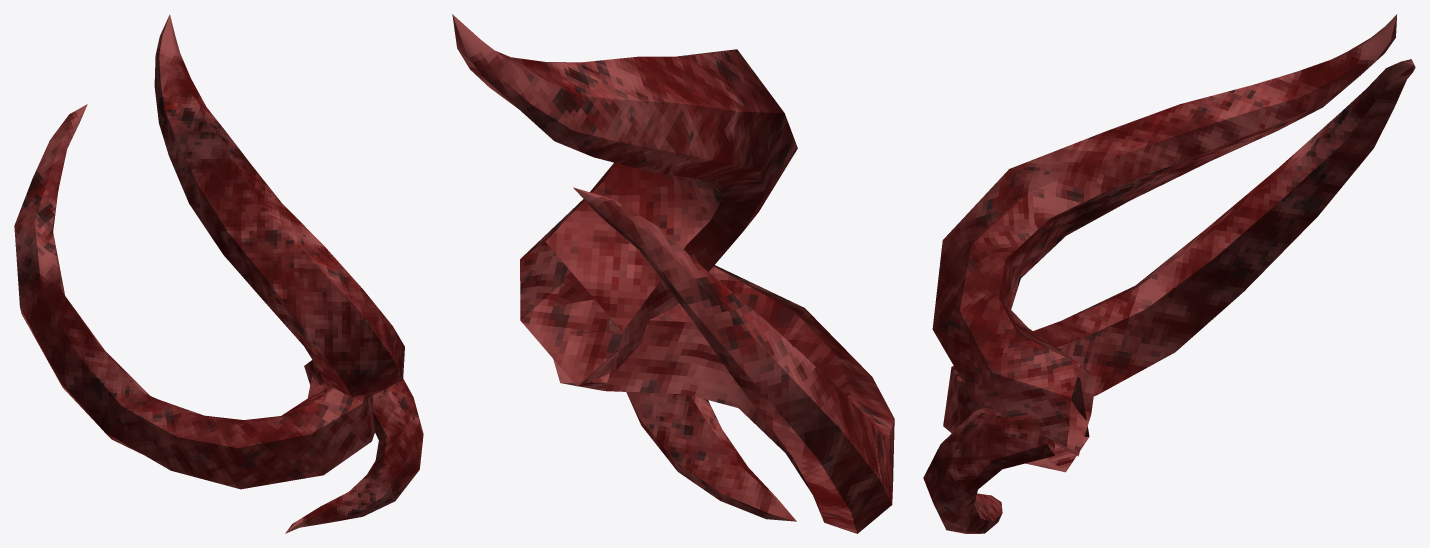
The model's file is eye_tendrils.fbx.
3 views of the same model, side by side, from view 1: azimuth 30°, elevation 25°; view 2: azimuth 150°, elevation 25°; view 3: azimuth 270°, elevation 25° (orthographic). The views are drawn at different scales.
Visible parts, largest first — view 1: tendril_16, tendril_13, tendril_4; view 2: tendril_13, tendril_16, tendril_4; view 3: tendril_13, tendril_16, tendril_4.
Boxes of the visible parts, x1,y1,x2,y2 form: tendril_16: (14, 104, 375, 489); tendril_13: (154, 14, 404, 397); tendril_4: (285, 379, 423, 533); tendril_13: (452, 14, 797, 386); tendril_16: (553, 187, 894, 533); tendril_4: (549, 264, 796, 521); tendril_13: (932, 14, 1397, 456); tendril_16: (943, 59, 1415, 472); tendril_4: (923, 407, 1054, 533).
Size of the model in its own units: 2.14 by 2.91 by 2.53.
